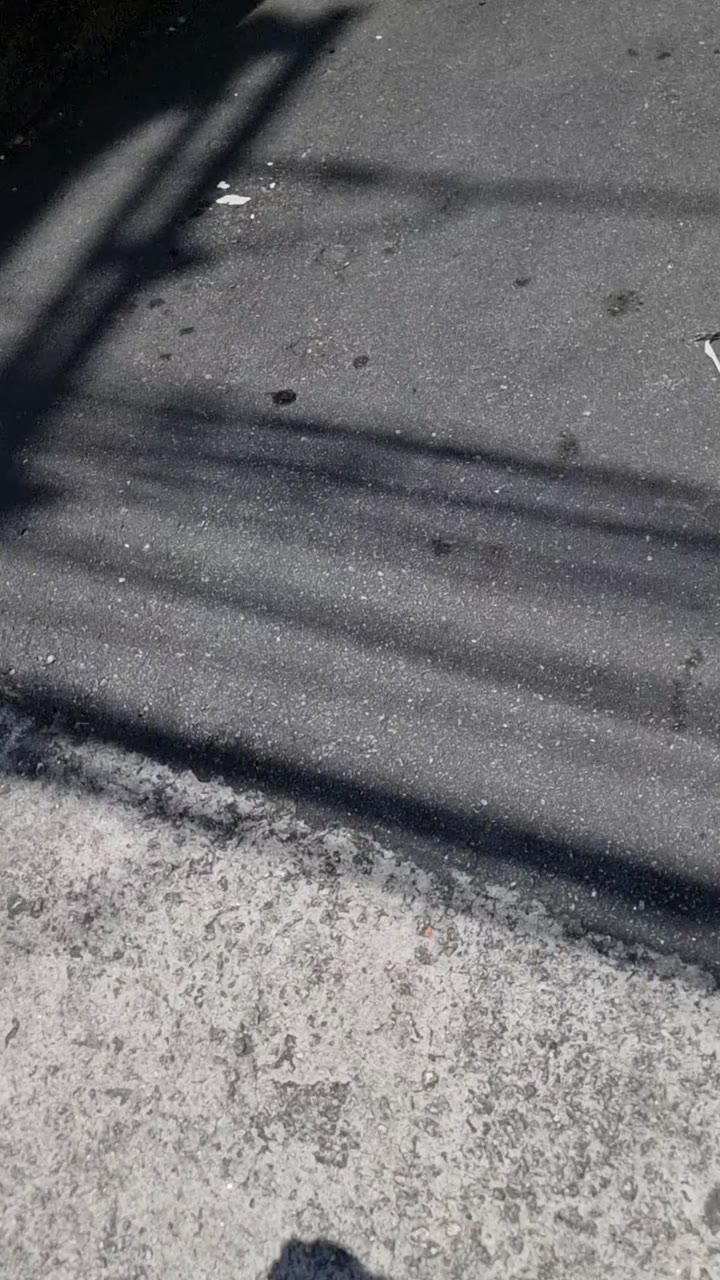desnivel: (1, 692, 718, 1280)
